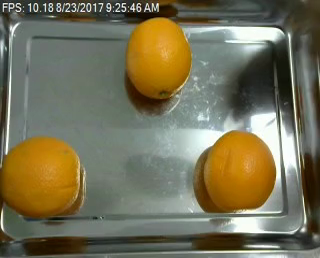Orange: (1, 137, 83, 217), (202, 130, 276, 212), (126, 17, 192, 98)
